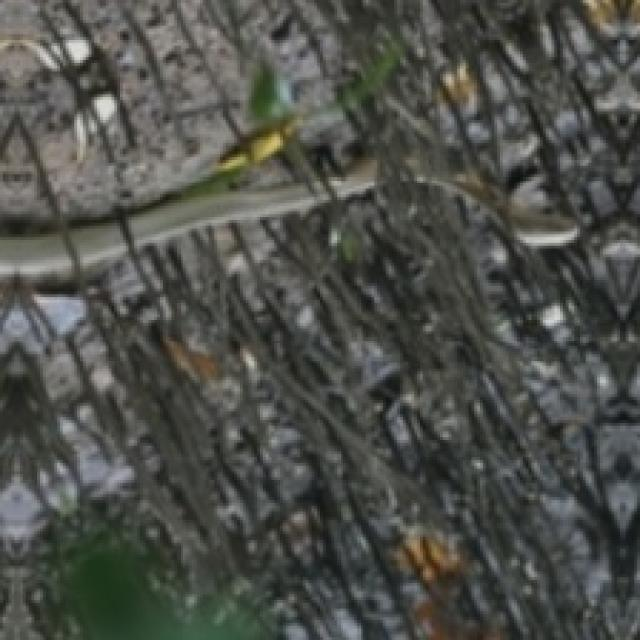king cobra: (130, 184, 322, 244), (446, 175, 579, 248), (0, 234, 71, 288), (71, 220, 126, 276), (331, 161, 373, 197)
